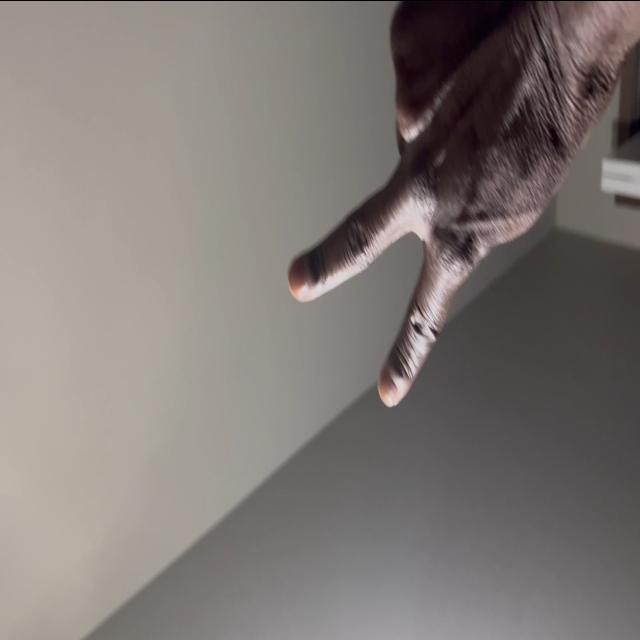Scissors: (285, 0, 640, 407)
